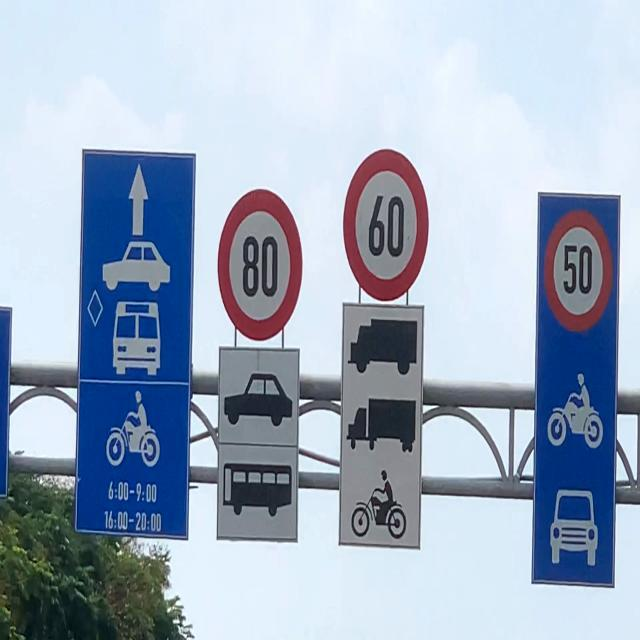Toc do toi da cho phep: (340, 142, 430, 304), (215, 182, 301, 342), (542, 197, 615, 340)
